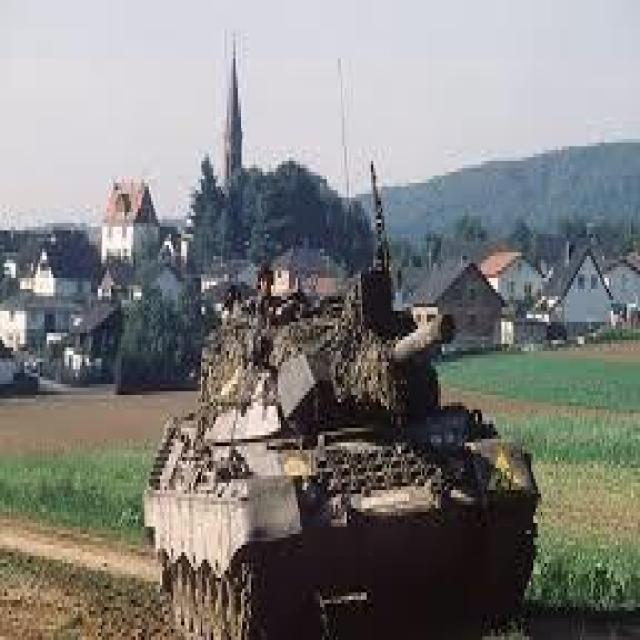MIL_MBT: (143, 278, 541, 633)
